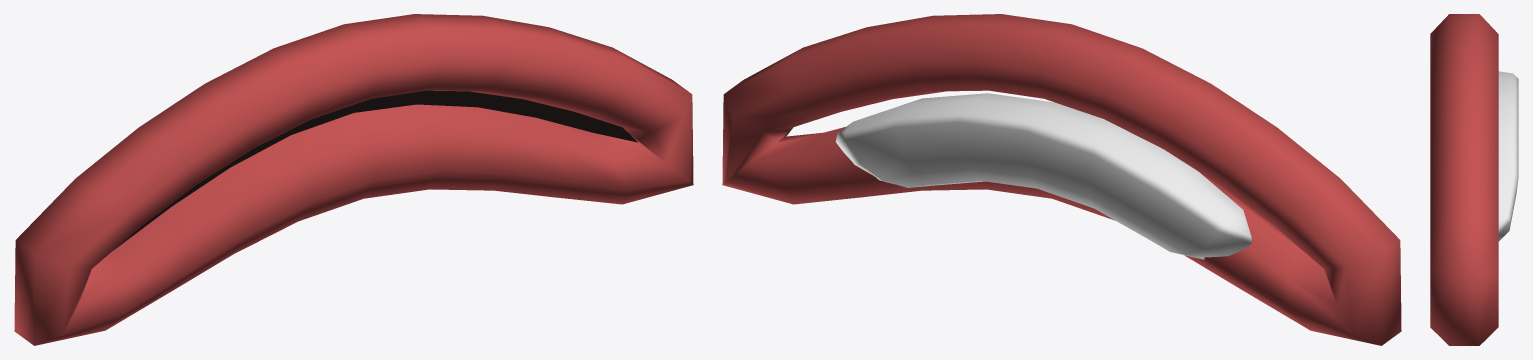
Rendered from mouth.fbx.
3 renders of one model, left to right at view 1: azimuth 30°, elevation 25°; view 2: azimuth 150°, elevation 25°; view 3: azimuth 270°, elevation 25°, orthographic. The views are drawn at different scales.
Parts seen in each view (by area): view 1: Mouth; view 2: Mouth; view 3: Mouth.
Part boxes in pixels (x1=…): Mouth: x1=14, y1=14, x2=693, y2=345; Mouth: x1=722, y1=14, x2=1401, y2=345; Mouth: x1=1430, y1=14, x2=1518, y2=345.
Size of the model in its own units: 1.08 by 0.3584 by 0.1642.
